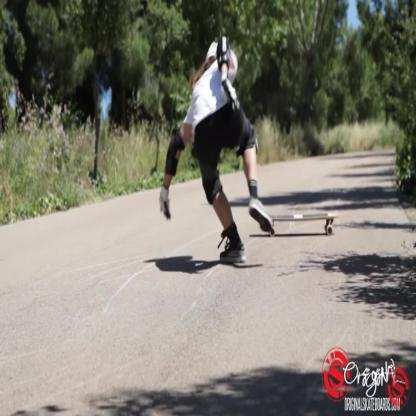Fall_Down: (158, 28, 276, 270)
